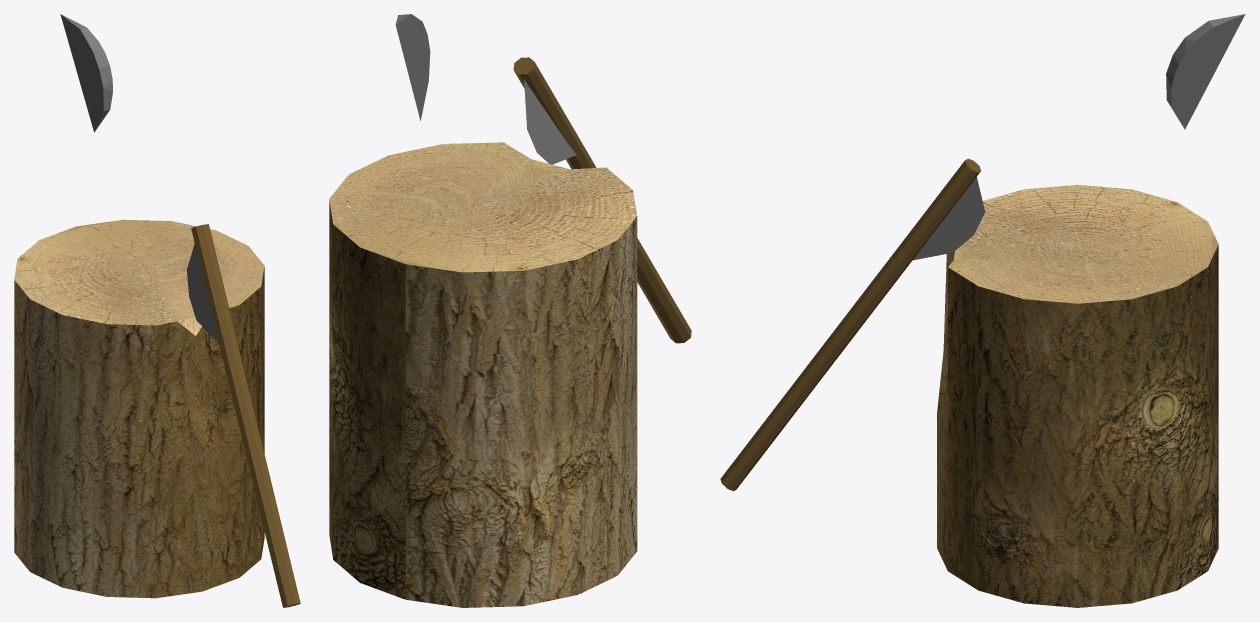
Rendered from trunk1.fbx.
3 views of the same model, side by side, from view 1: azimuth 30°, elevation 25°; view 2: azimuth 150°, elevation 25°; view 3: azimuth 270°, elevation 25° (orthographic). The views are drawn at different scales.
Parts seen in each view (by area): view 1: Cylinder, Cylinder.001, Sphere.001, Sphere; view 2: Cylinder, Cylinder.001, Sphere.001, Sphere; view 3: Cylinder, Cylinder.001, Sphere.001, Sphere.
Part boxes in pixels (x1=…): Cylinder: x1=14, y1=219, x2=264, y2=598; Cylinder.001: x1=191, y1=224, x2=300, y2=607; Sphere.001: x1=60, y1=14, x2=112, y2=132; Sphere: x1=187, y1=244, x2=218, y2=343; Cylinder: x1=329, y1=142, x2=637, y2=607; Cylinder.001: x1=513, y1=57, x2=691, y2=343; Sphere.001: x1=395, y1=14, x2=430, y2=120; Sphere: x1=524, y1=79, x2=576, y2=164; Cylinder: x1=937, y1=184, x2=1218, y2=607; Cylinder.001: x1=720, y1=158, x2=980, y2=491; Sphere.001: x1=1166, y1=14, x2=1245, y2=129; Sphere: x1=913, y1=177, x2=985, y2=260.
Bounding box in the file's own units: 200 × 417 × 373.
4 materials, 2 textured.
